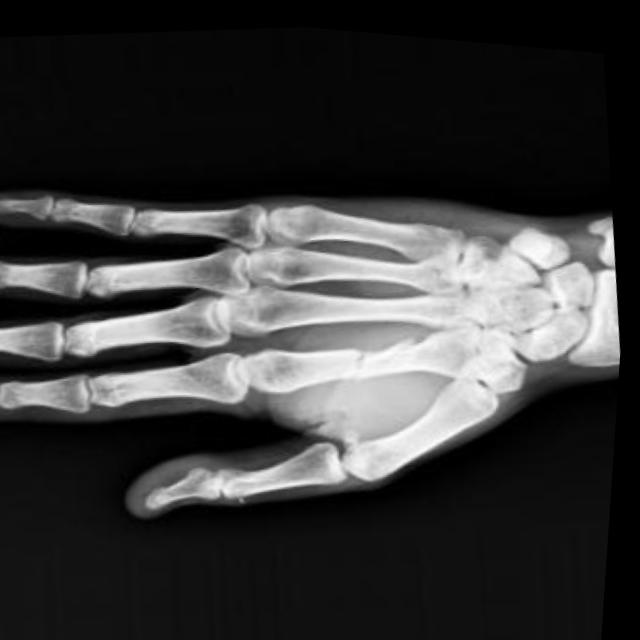fracture: (347, 321, 385, 384)
